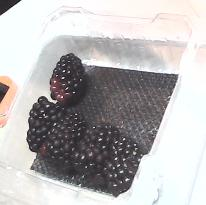berry: (38, 112, 87, 170), (73, 124, 118, 184), (103, 136, 140, 196), (28, 97, 69, 151), (50, 53, 85, 104)
